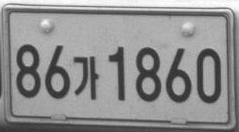0: (195, 47, 221, 104)
1: (105, 45, 133, 101)
6: (164, 47, 192, 103), (44, 45, 71, 99)
8: (135, 46, 162, 102), (15, 43, 41, 99)
가: (73, 55, 98, 100)
